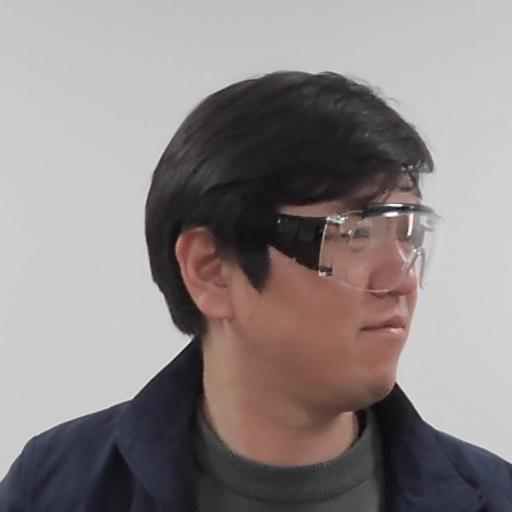glasses: (147, 65, 444, 426)
